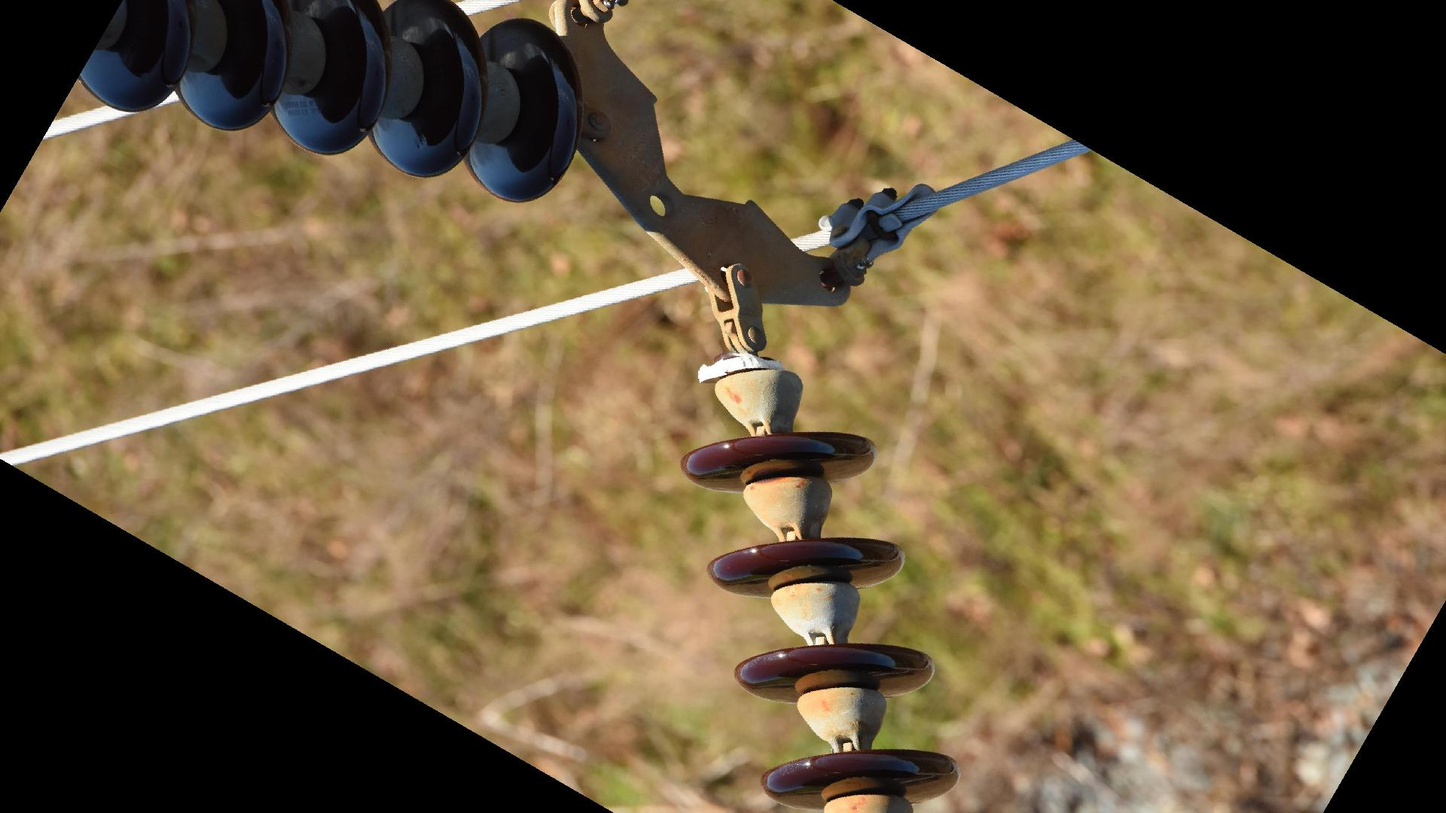insulator: (673, 424, 968, 813), (78, 1, 588, 209)
